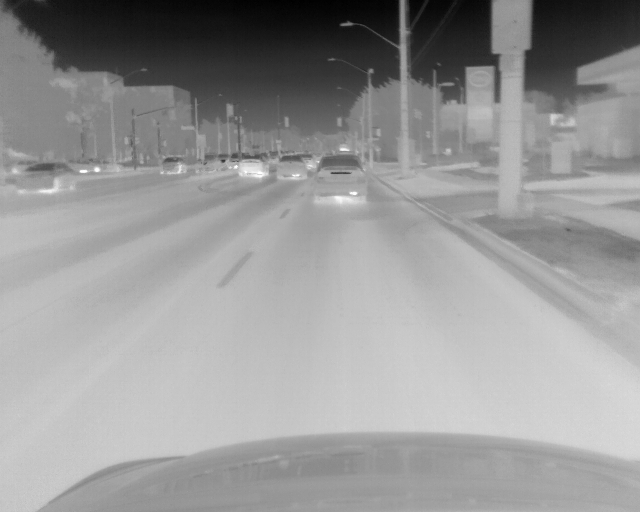car: (312, 154, 367, 203), (10, 163, 79, 194), (276, 155, 306, 182), (236, 158, 269, 180), (160, 155, 186, 177), (298, 153, 317, 172)
